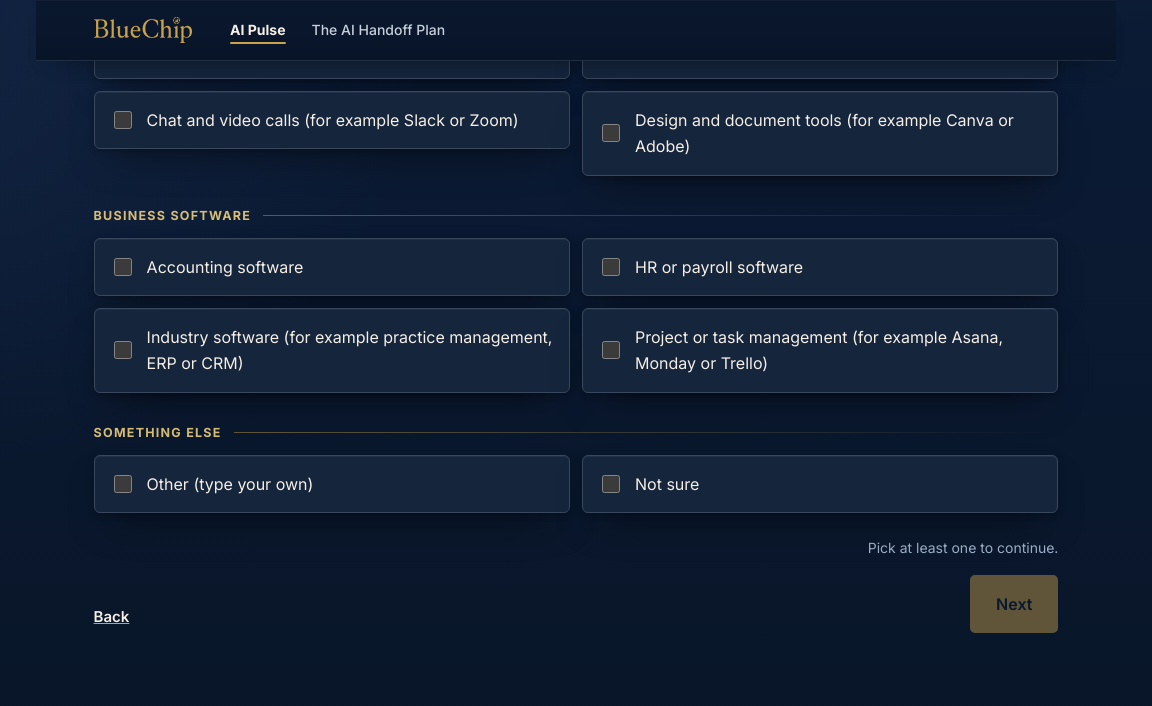
AI Pulse: continuing from the homepage calculator › shows the prefilled picks and sizing on question 2
The image size is (1152, 706).
(page scrolled)
Click the button "Back" at [112, 618], box [94, 596, 129, 640]
(page scrolled)
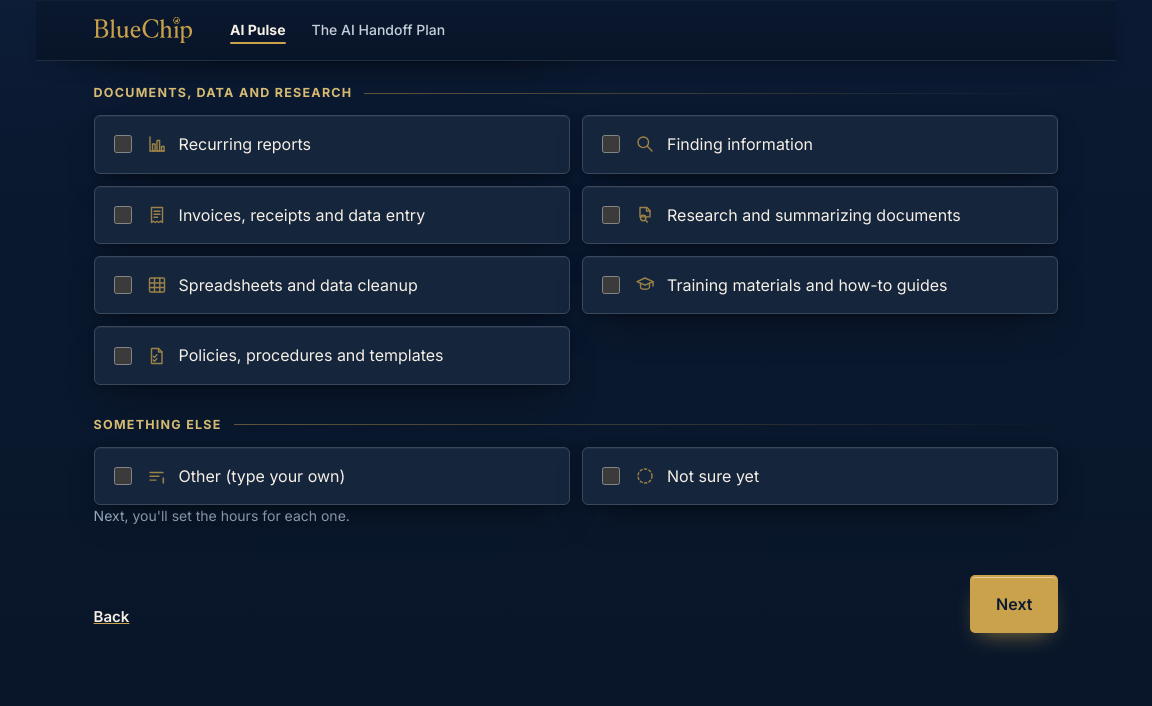
Click the button "Next" at [1014, 604], box [970, 574, 1058, 632]
(page scrolled)
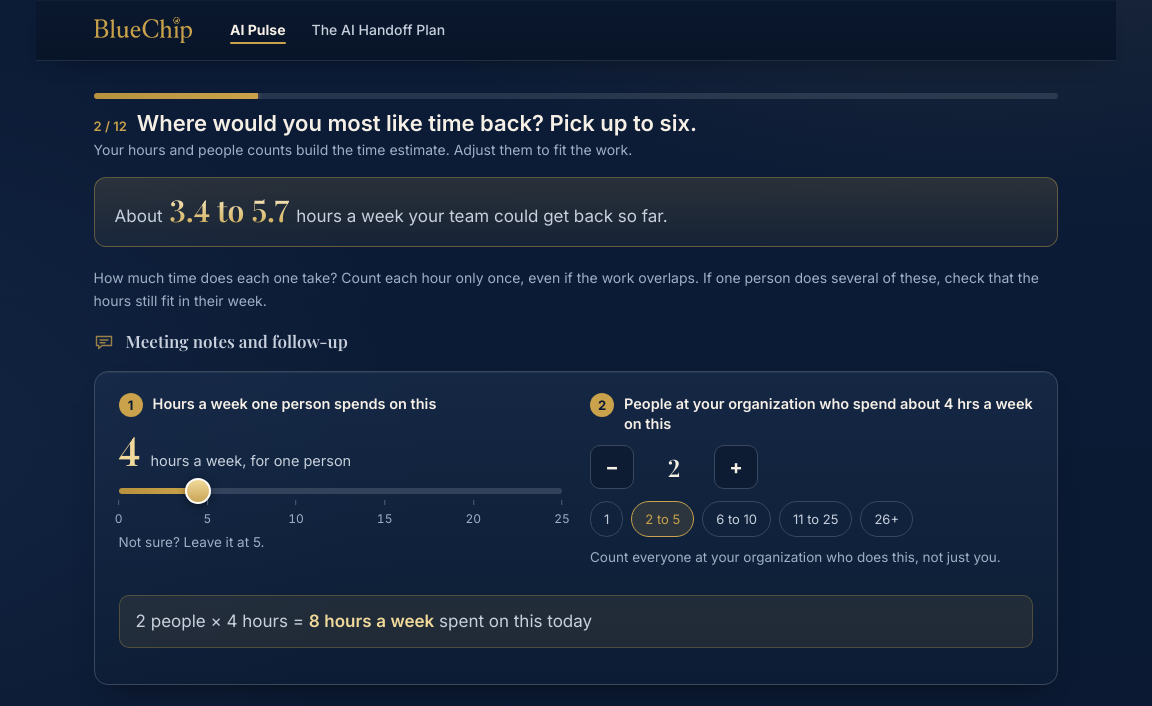
Check: the text "2 people × 4 hours = 8 hours a week spent on this today" is shown, box [119, 595, 1033, 648]
